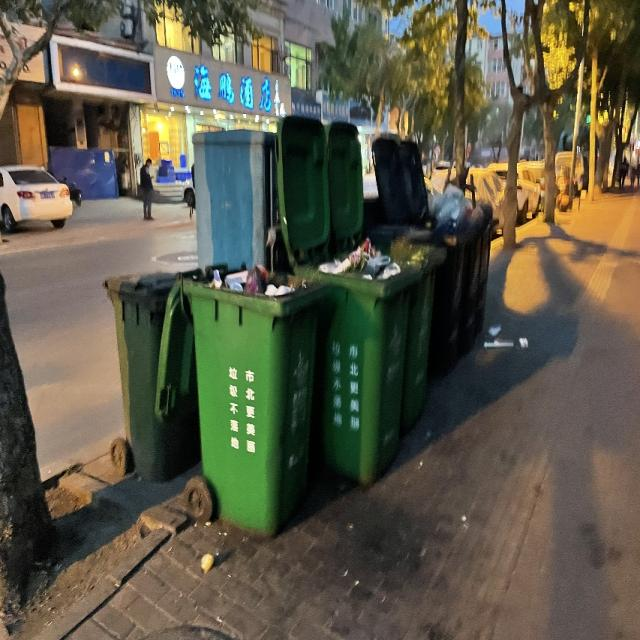garbage: (482, 320, 528, 348)
garbage_bin: (102, 272, 202, 481), (373, 237, 448, 426)
overflow: (154, 262, 326, 536), (292, 235, 421, 484), (425, 182, 499, 377)
